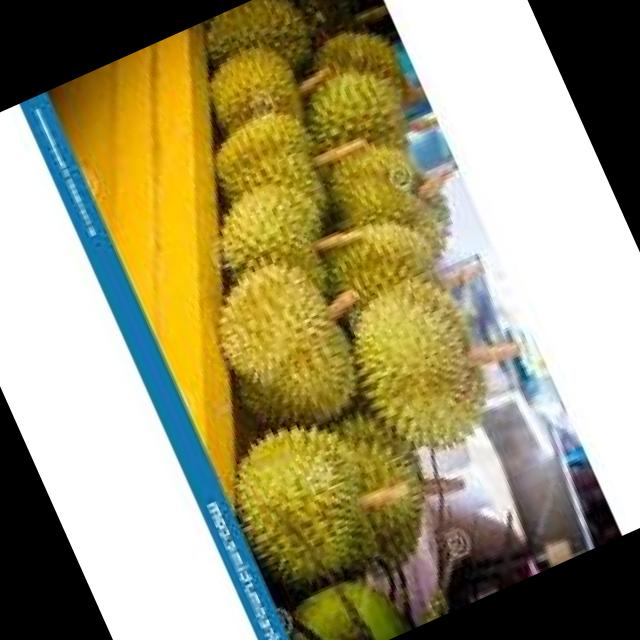fruit: (188, 349, 488, 640), (285, 232, 561, 515), (144, 72, 395, 337), (170, 220, 414, 472), (172, 13, 328, 161)
